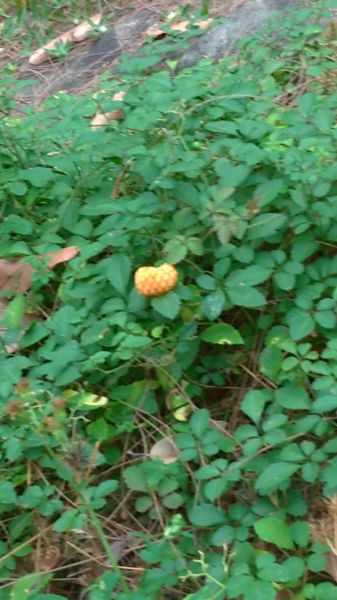eggs: (131, 259, 181, 298)
